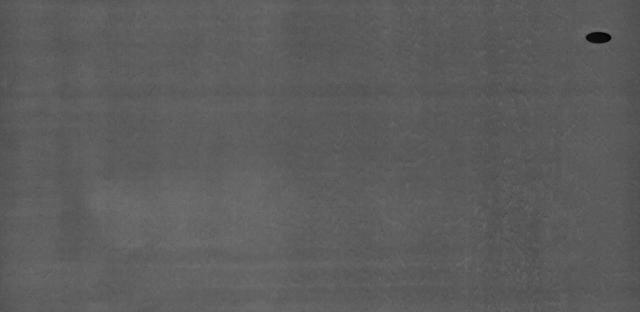punching_hole: (578, 29, 616, 47)
silk_spot: (466, 14, 550, 284)
